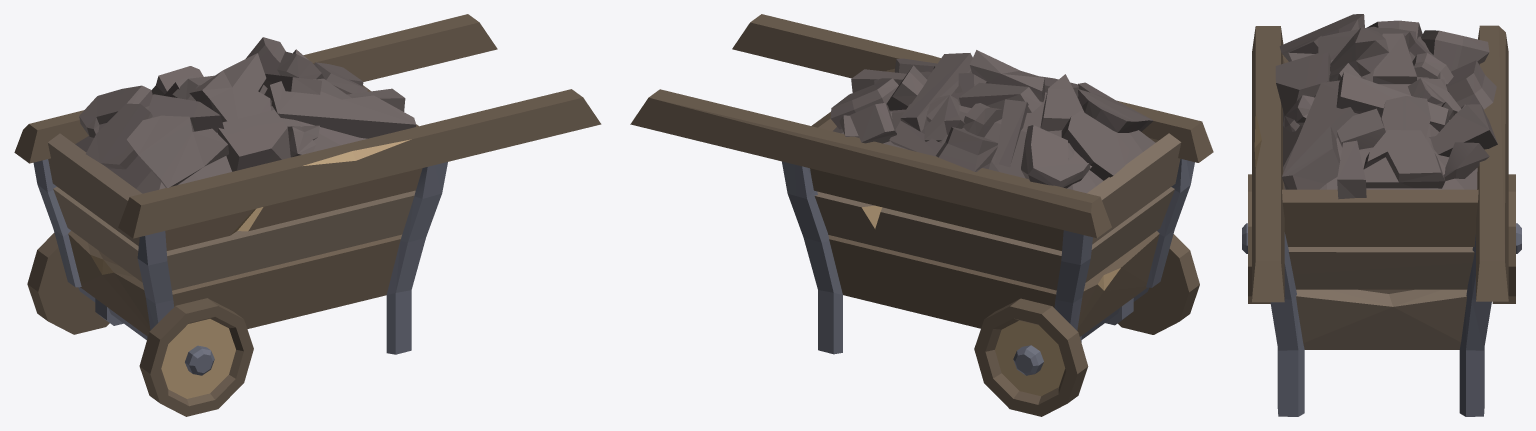
Rendered from _wheelbarrow_mineral.fbx.
The picture shows the model from 3 angles, left to right: view 1: azimuth 30°, elevation 25°; view 2: azimuth 150°, elevation 25°; view 3: azimuth 270°, elevation 25°; orthographic projection. The views are drawn at different scales.
Parts seen in each view (by area): view 1: wheel_barrow_mineral; view 2: wheel_barrow_mineral; view 3: wheel_barrow_mineral.
Part boxes in pixels (bbox=[...]): wheel_barrow_mineral: bbox=[14, 14, 601, 416]; wheel_barrow_mineral: bbox=[630, 14, 1213, 416]; wheel_barrow_mineral: bbox=[1242, 14, 1521, 416].
Bounding box in the file's own units: 187 × 111 × 88.67.
